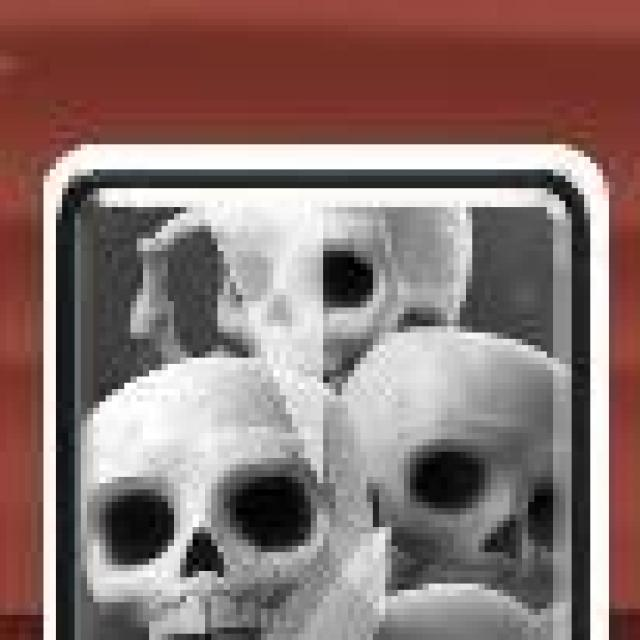Skeleton_Army: (44, 148, 607, 640)
